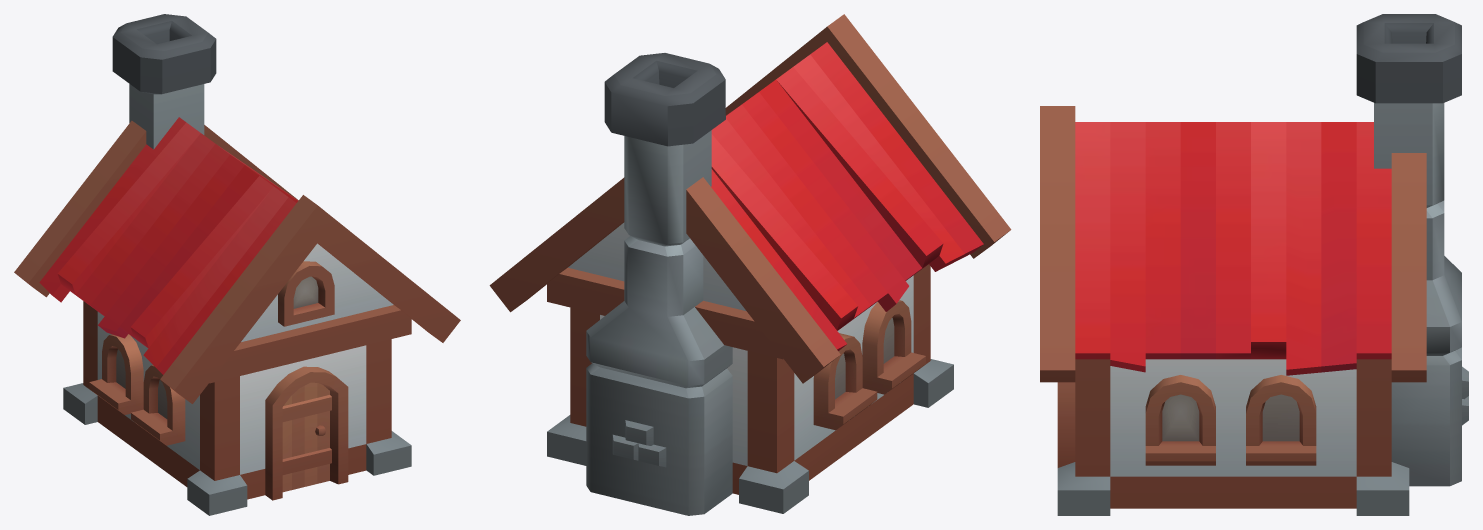
File: kk_home_a_v1.glb
3 renders of one model, left to right at view 1: azimuth 30°, elevation 25°; view 2: azimuth 150°, elevation 25°; view 3: azimuth 270°, elevation 25°, orthographic. The views are drawn at different scales.
Parts seen in each view (by area): view 1: building_home_A_red; view 2: building_home_A_red; view 3: building_home_A_red.
Boxes of the visible parts, left/top/right/bottom form: building_home_A_red: left=14, top=14, right=460, bottom=515; building_home_A_red: left=489, top=14, right=1011, bottom=515; building_home_A_red: left=1040, top=14, right=1468, bottom=515.
Size of the model in its own units: 0.7919 by 0.93 by 0.8536.
Materials: 1 (1 with a texture image).
